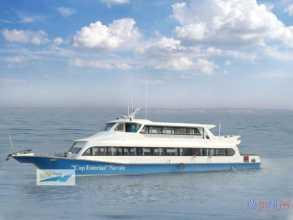yacht: (9, 110, 270, 172)
